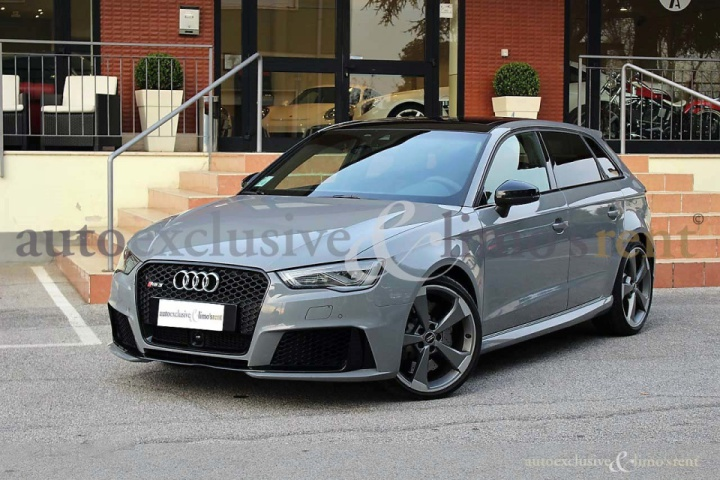audi: (170, 265, 222, 297)
